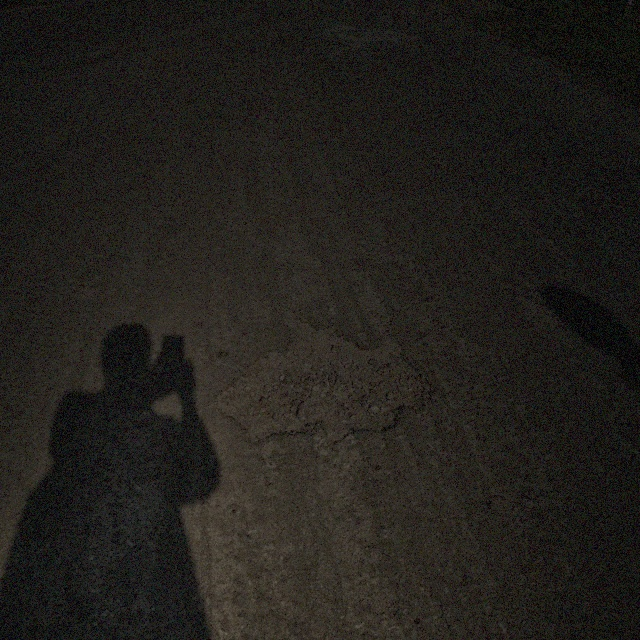pothole: (206, 317, 436, 447)
